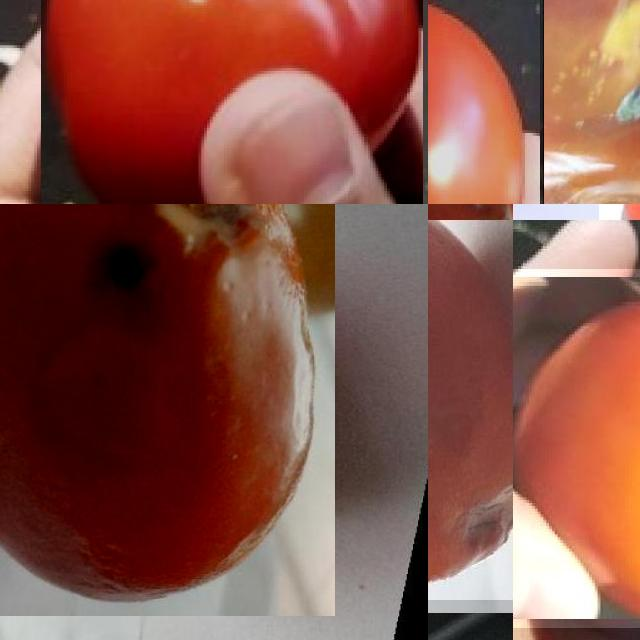0: (41, 0, 423, 204), (428, 0, 544, 204)
1: (544, 0, 640, 204)
Fresh Tomato: (513, 268, 640, 628)
Rotten Tomato: (0, 204, 335, 616), (428, 220, 513, 599)
